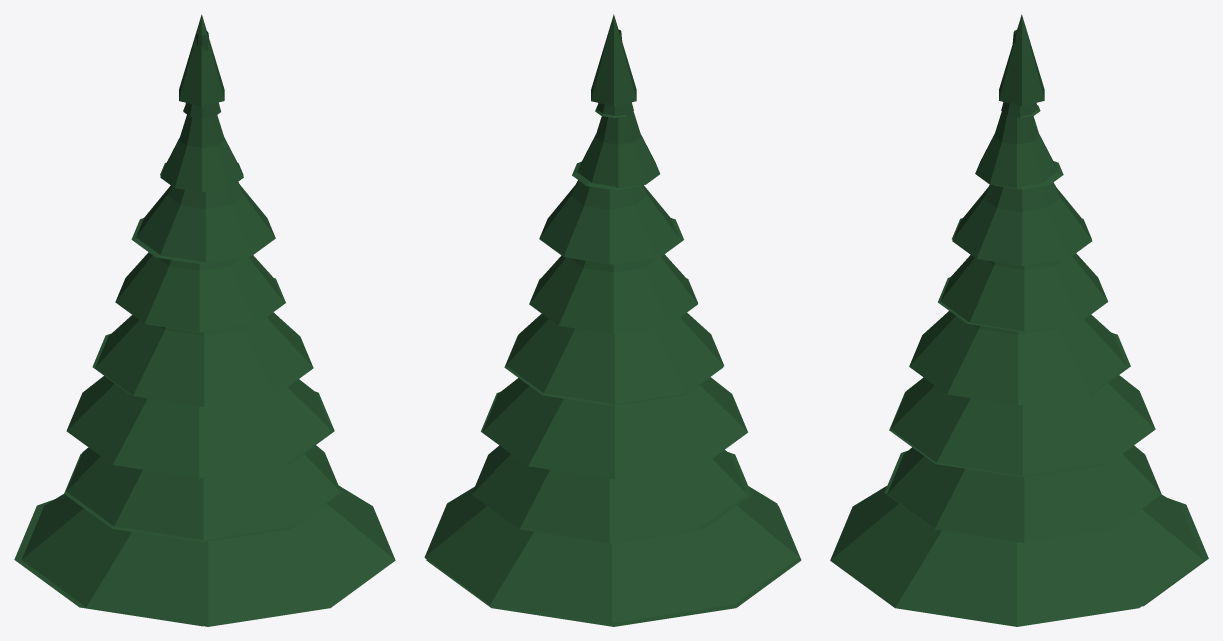
File: tree-spruce-2.glb
3 renders of one model, left to right at view 1: azimuth 30°, elevation 25°; view 2: azimuth 150°, elevation 25°; view 3: azimuth 270°, elevation 25°, orthographic.
Parts seen in each view (by area): view 1: 01_paint0; view 2: 01_paint0; view 3: 01_paint0.
Part boxes in pixels (bbox=[...]): 01_paint0: bbox=[14, 14, 395, 626]; 01_paint0: bbox=[424, 14, 801, 626]; 01_paint0: bbox=[830, 14, 1208, 626].
Bounding box in the file's own units: 7.07 × 12.1 × 7.18.
